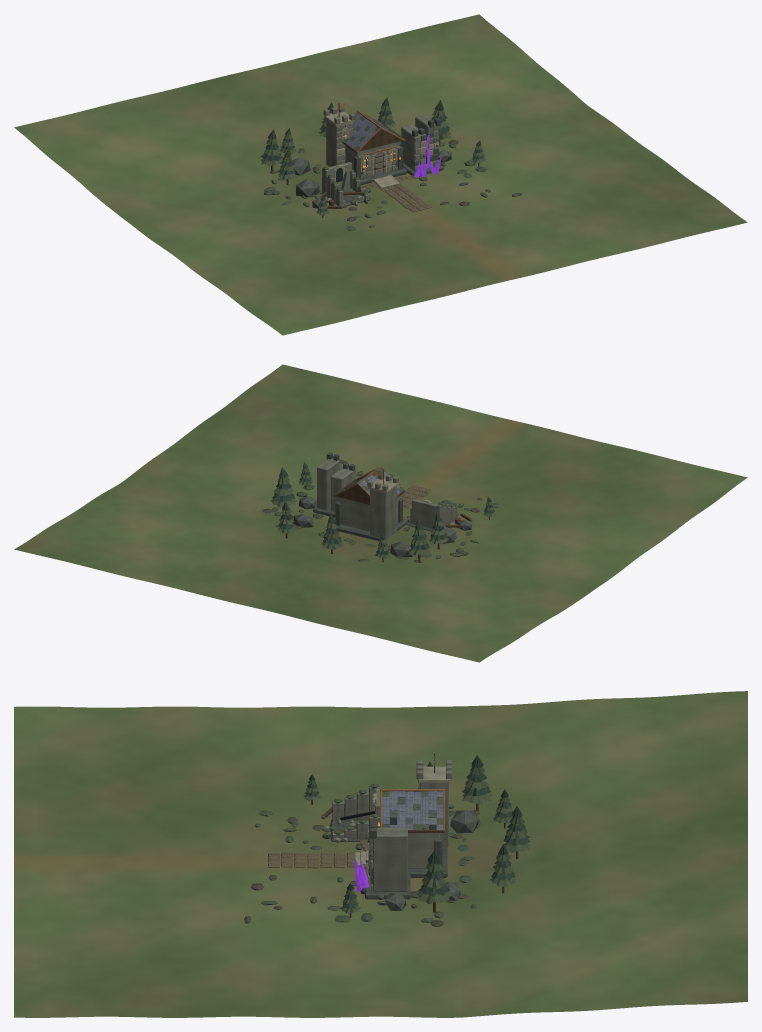
Rendered from Reboot_Pilot.glb.
3 renders of one model, top to bottom at view 1: azimuth 30°, elevation 25°; view 2: azimuth 150°, elevation 25°; view 3: azimuth 270°, elevation 25°, orthographic. The views are drawn at different scales.
Parts seen in each view (by area): view 1: Terrain, 01_Reclaimed_Hall, 03_Corrupted_Watchtower, 02_Roofless_Ruin; view 2: Terrain, 01_Reclaimed_Hall, 03_Corrupted_Watchtower, 02_Roofless_Ruin; view 3: Terrain, 01_Reclaimed_Hall, 03_Corrupted_Watchtower, 02_Roofless_Ruin.
Boxes of the visible parts, x1,y1,x2,y2 form: Terrain: [14, 14, 747, 335]; 01_Reclaimed_Hall: [323, 102, 407, 187]; 03_Corrupted_Watchtower: [401, 114, 443, 178]; 02_Roofless_Ruin: [321, 162, 370, 206]; Terrain: [14, 364, 747, 662]; 01_Reclaimed_Hall: [333, 466, 407, 541]; 03_Corrupted_Watchtower: [313, 452, 356, 517]; 02_Roofless_Ruin: [408, 499, 457, 531]; Terrain: [14, 691, 747, 1017]; 01_Reclaimed_Hall: [355, 753, 452, 877]; 03_Corrupted_Watchtower: [349, 821, 410, 899]; 02_Roofless_Ruin: [322, 784, 380, 842].
Size of the model in its own units: 48 by 7.27 by 48.
3 materials, 3 textured.
